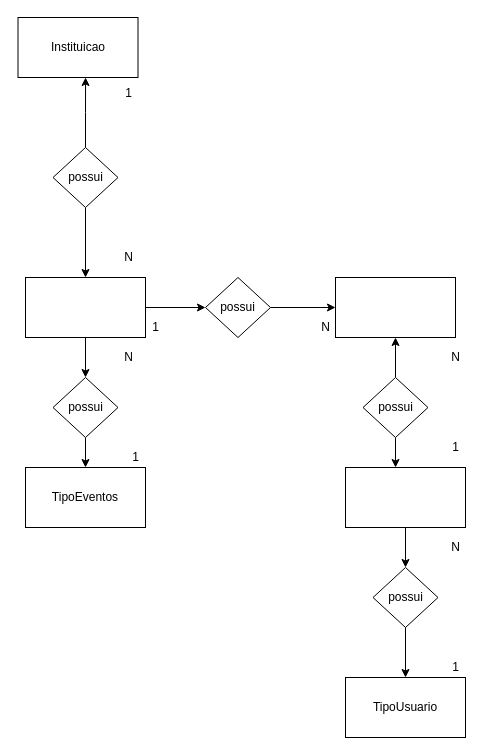
This 483x755 diagram has some shape labels left out. Each missing label, with the box of its shape:
Eventos: (24, 276, 146, 338)
Presenca: (334, 276, 456, 338)
Usuario: (344, 466, 466, 528)
